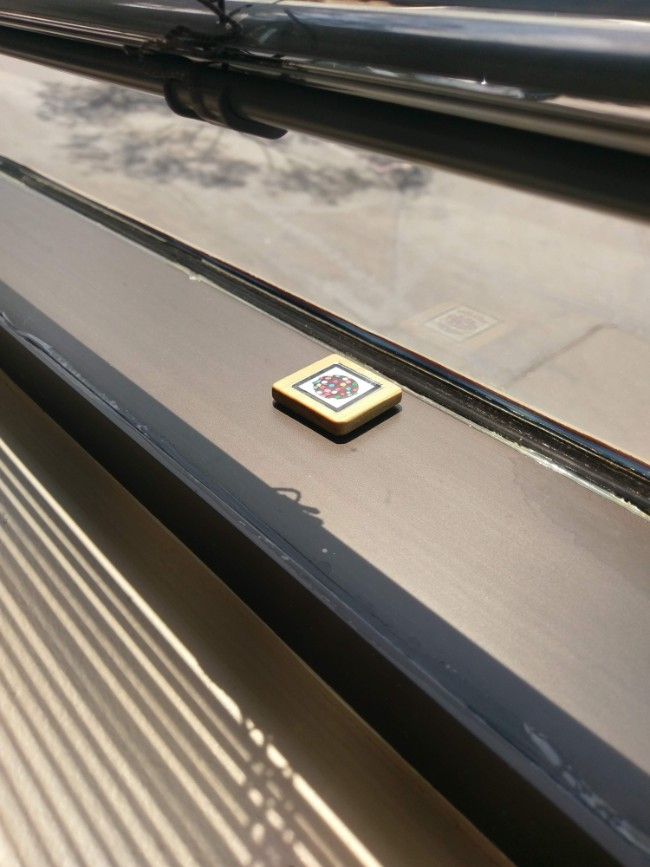cookie: (291, 364, 381, 412)
